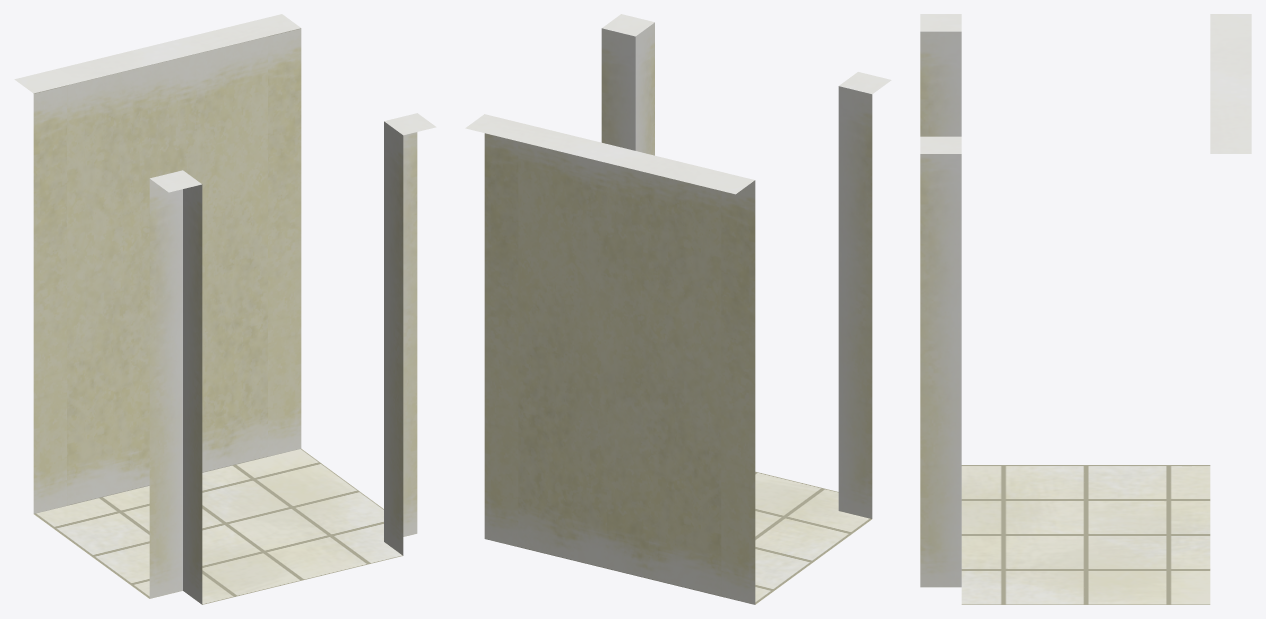
File: maze_3way.FBX
3 renders of one model, left to right at view 1: azimuth 30°, elevation 25°; view 2: azimuth 150°, elevation 25°; view 3: azimuth 270°, elevation 25°, orthographic. The views are drawn at different scales.
Visible parts, largest first — view 1: Plane01; view 2: Plane01; view 3: Plane01.
Boxes of the visible parts, x1=… form: Plane01: x1=14, y1=14, x2=436, y2=604; Plane01: x1=465, y1=14, x2=891, y2=604; Plane01: x1=920, y1=14, x2=1251, y2=604.
Size of the model in its own units: 32 by 48 by 32.
